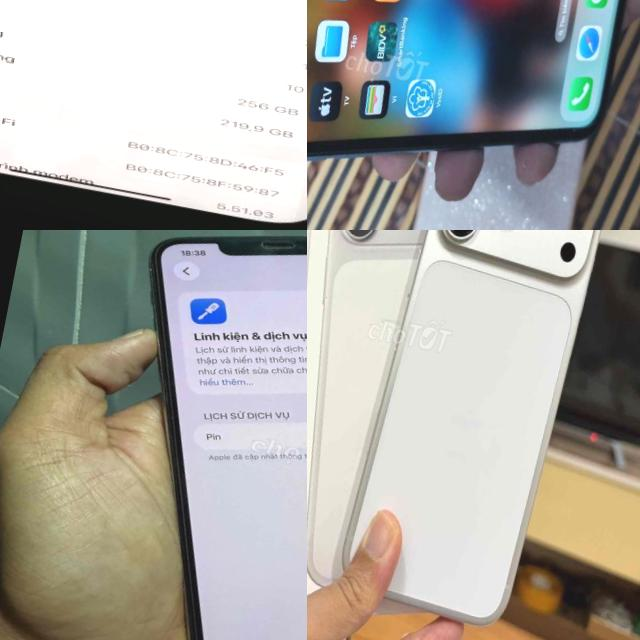gen_11: (39, 230, 307, 640)
gen_12_13: (0, 0, 307, 230)
gen_17: (333, 230, 616, 630)
gen_x_xs: (307, 0, 625, 158)
scratch: (143, 253, 170, 283)
